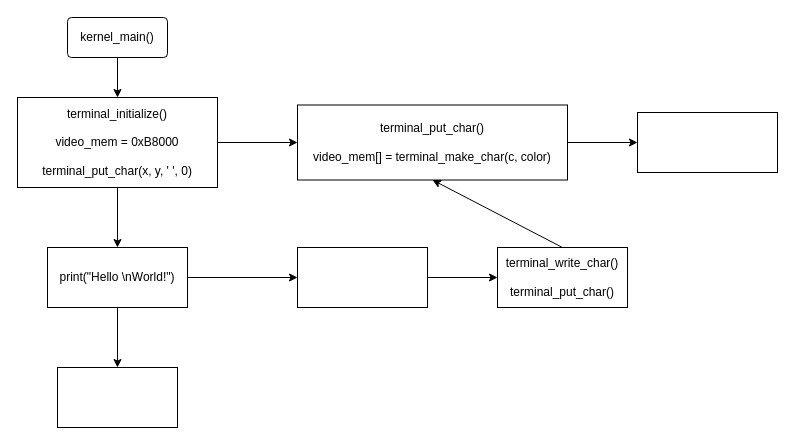
The diagram is 795 pixels wide and 445 high, and some of its shapes have lost their labels. Here are the shapes that lost their labels. From the top down, the box of each, then its label:
(636, 112, 778, 172): terminal_make_char() color << 8
(296, 246, 428, 308): print() terminal_write_char()
(56, 366, 178, 428): kheap_init()
